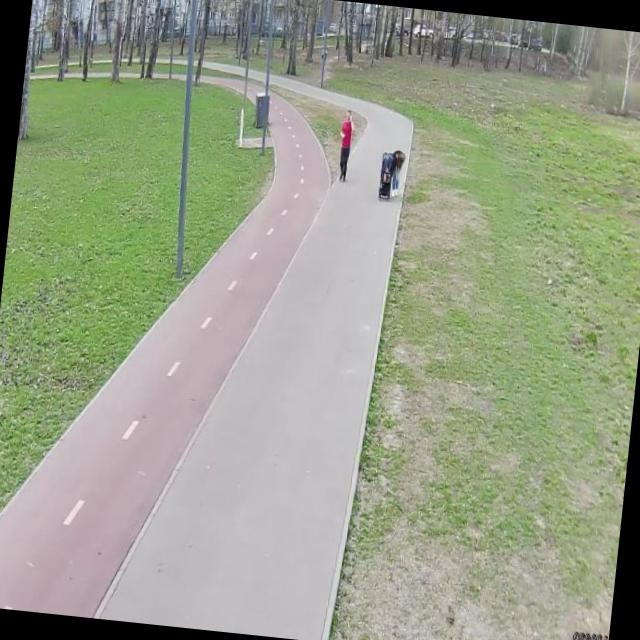person: (334, 109, 356, 182)
